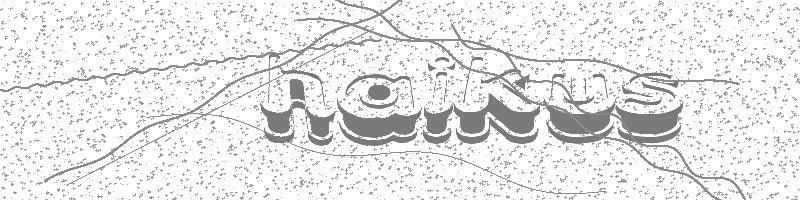a: (337, 74, 421, 145)
h: (261, 53, 335, 146)
i: (423, 57, 454, 144)
k: (456, 57, 541, 144)
s: (616, 73, 683, 144)
u: (545, 73, 616, 144)
